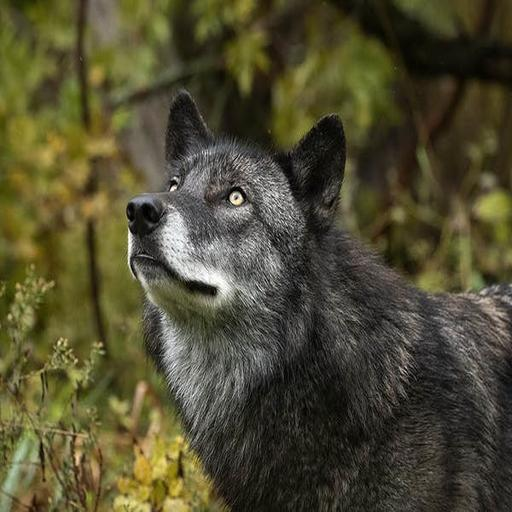Wolf: (125, 90, 512, 512)
